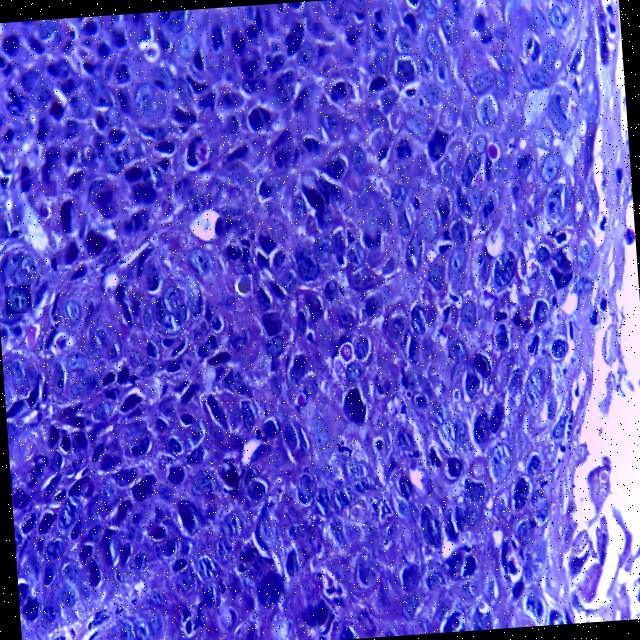Multiple Nucleol: (4, 284, 30, 311)
Nuclear Hyperchromatism: (234, 273, 253, 296)
